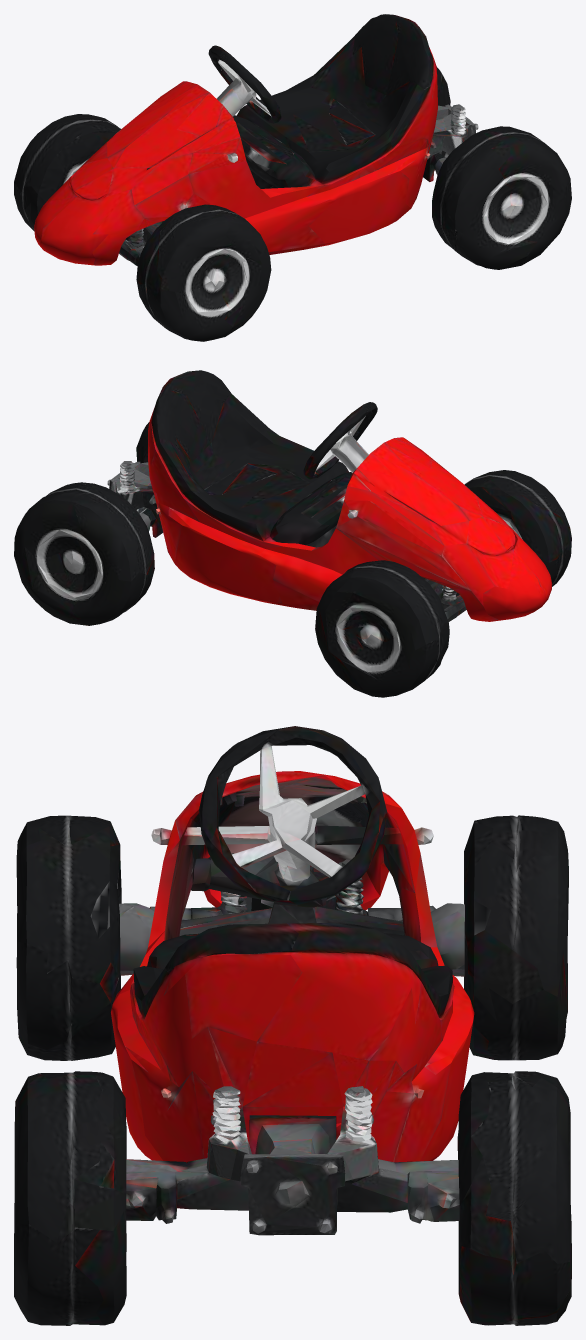
Rendered from kart.glb.
3 views of the same model, one above another, from view 1: azimuth 30°, elevation 25°; view 2: azimuth 150°, elevation 25°; view 3: azimuth 270°, elevation 25° (orthographic). The views are drawn at different scales.
Bounding box in the file's own units: 1.9 × 0.8639 × 1.1.
1 material, 1 textured.
